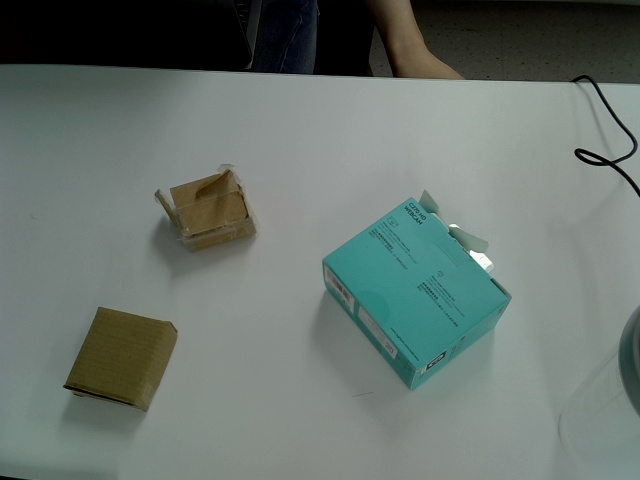defect: (154, 161, 262, 255)
normal: (63, 305, 181, 413)
